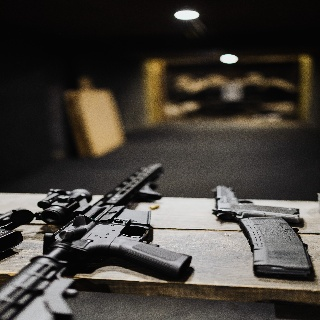pistol: (213, 183, 304, 225)
rifle: (2, 162, 194, 320)
